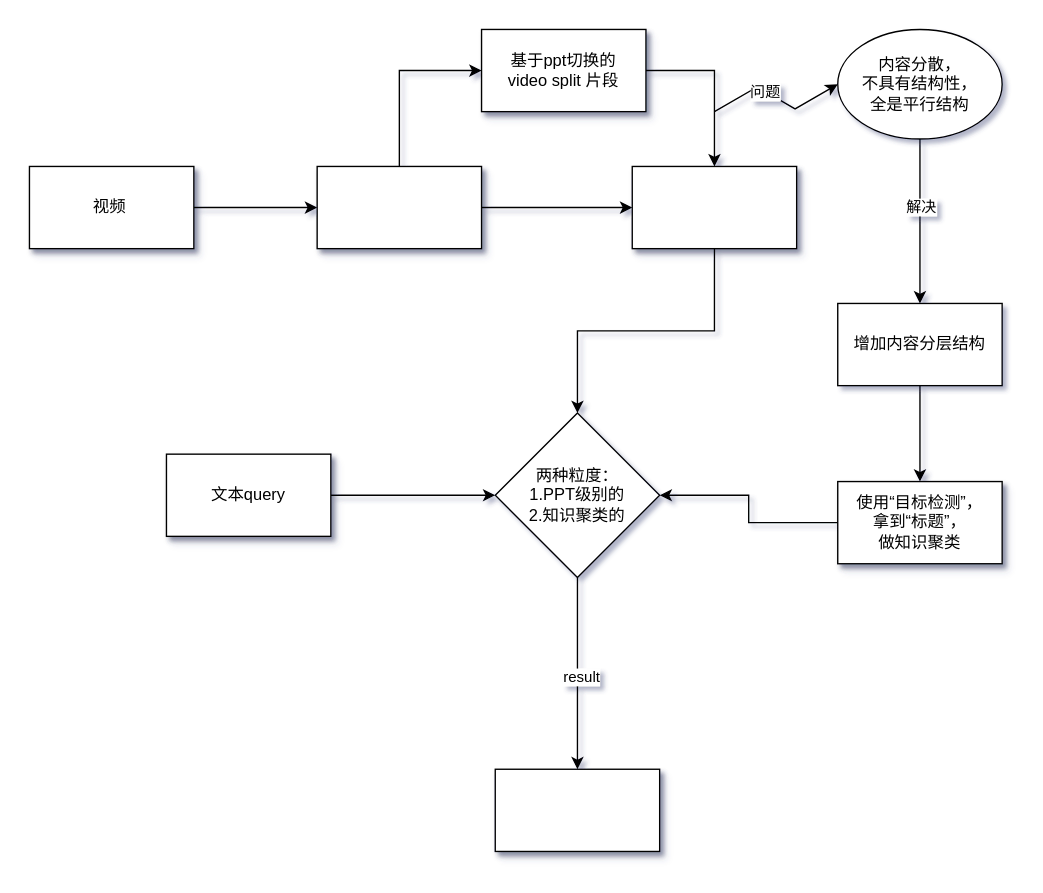
Image size: 1043x893. Some labels were removed from this diagram. Here are the shapes that lost their labels. From the top down, the centre of each, then its label:
[400,209]: 视频切片
[715,209]: 内容分割
[578,811]: 时间戳： 两个，不同粒度的
